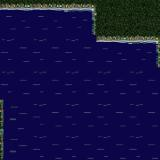Interaction: (0, 0, 105, 19), (105, 33, 160, 56), (88, 20, 105, 54), (148, 54, 160, 73)
Slow: (0, 12, 91, 160), (92, 45, 156, 160)
